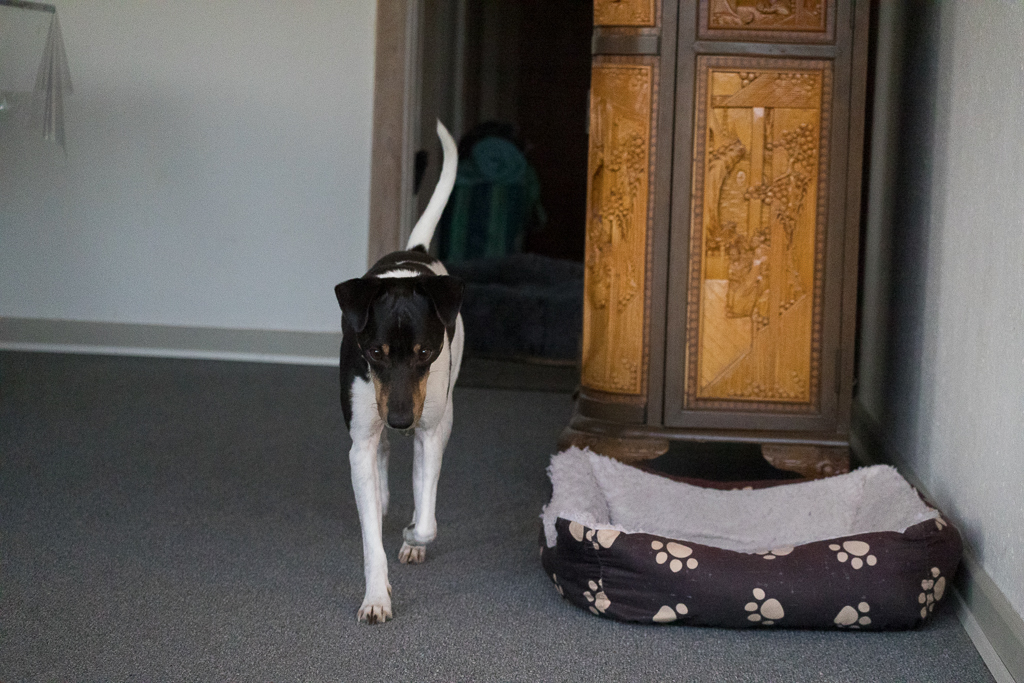Dog: (316, 106, 478, 633)
